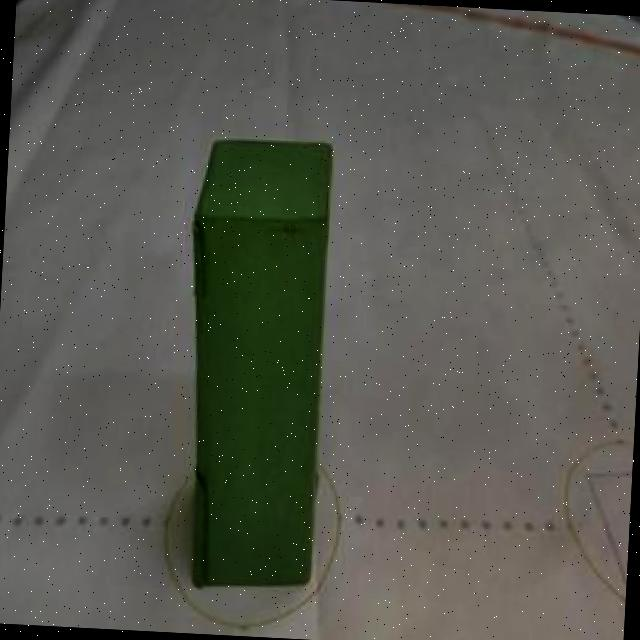greenbox: (171, 133, 348, 592)
